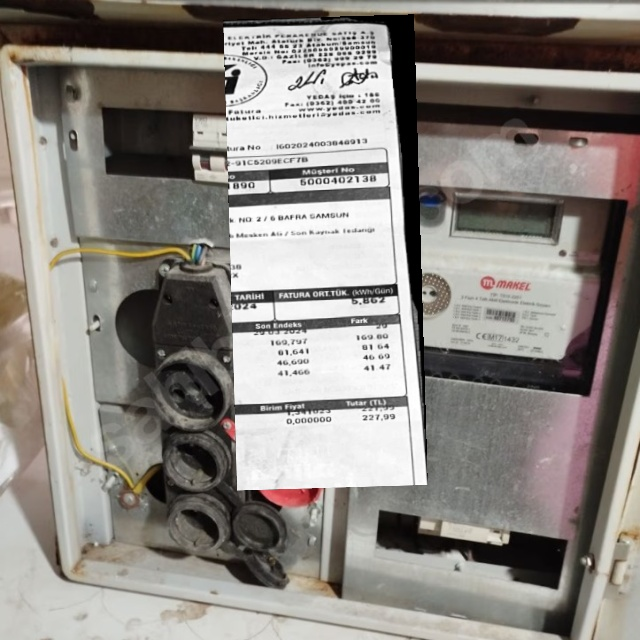electricity-bill: (222, 13, 427, 491)
